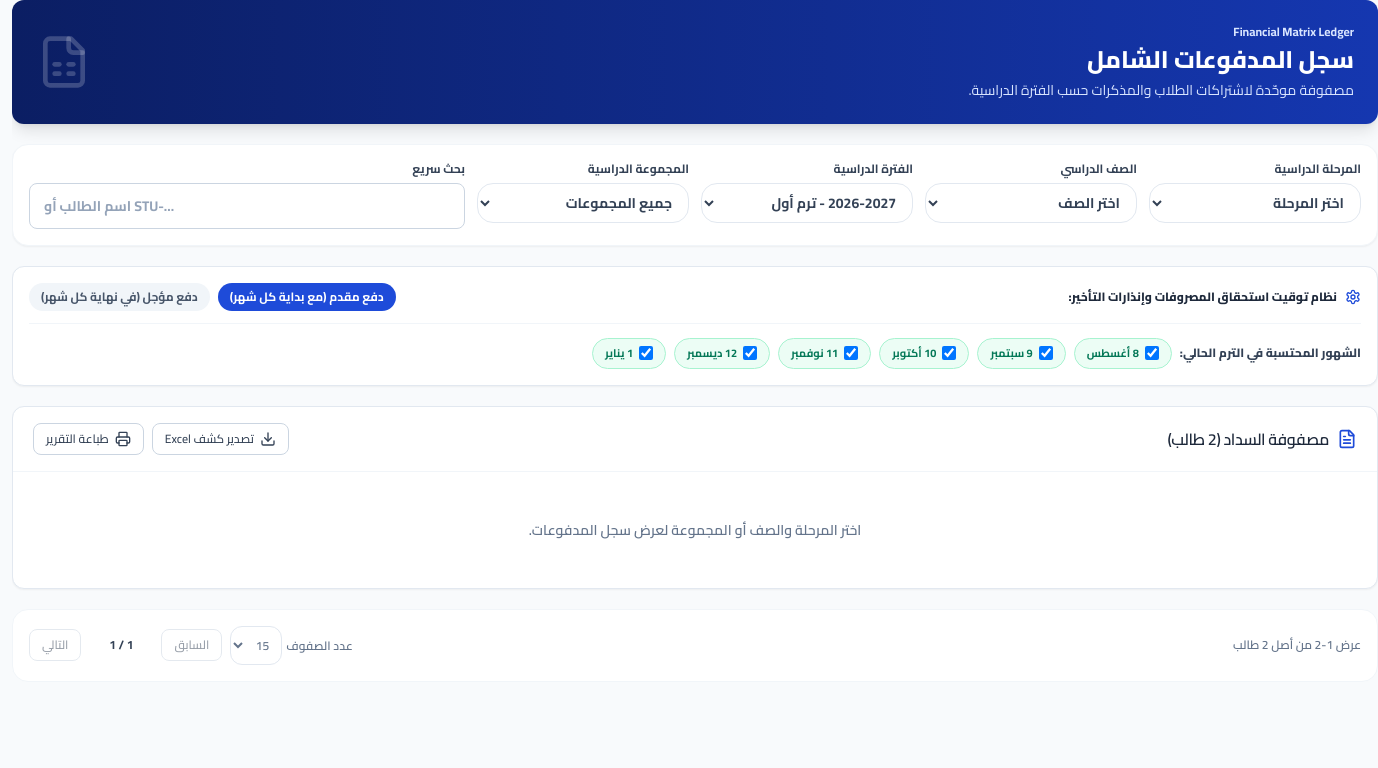
Test: FinancialMatrixLedger › restricts month columns to the selected term and blanks future months
Select "الثانوية" in the dropdown labelled "المرحلة الدراسية". click: (1255, 203)
box: [1149,183,1361,223]
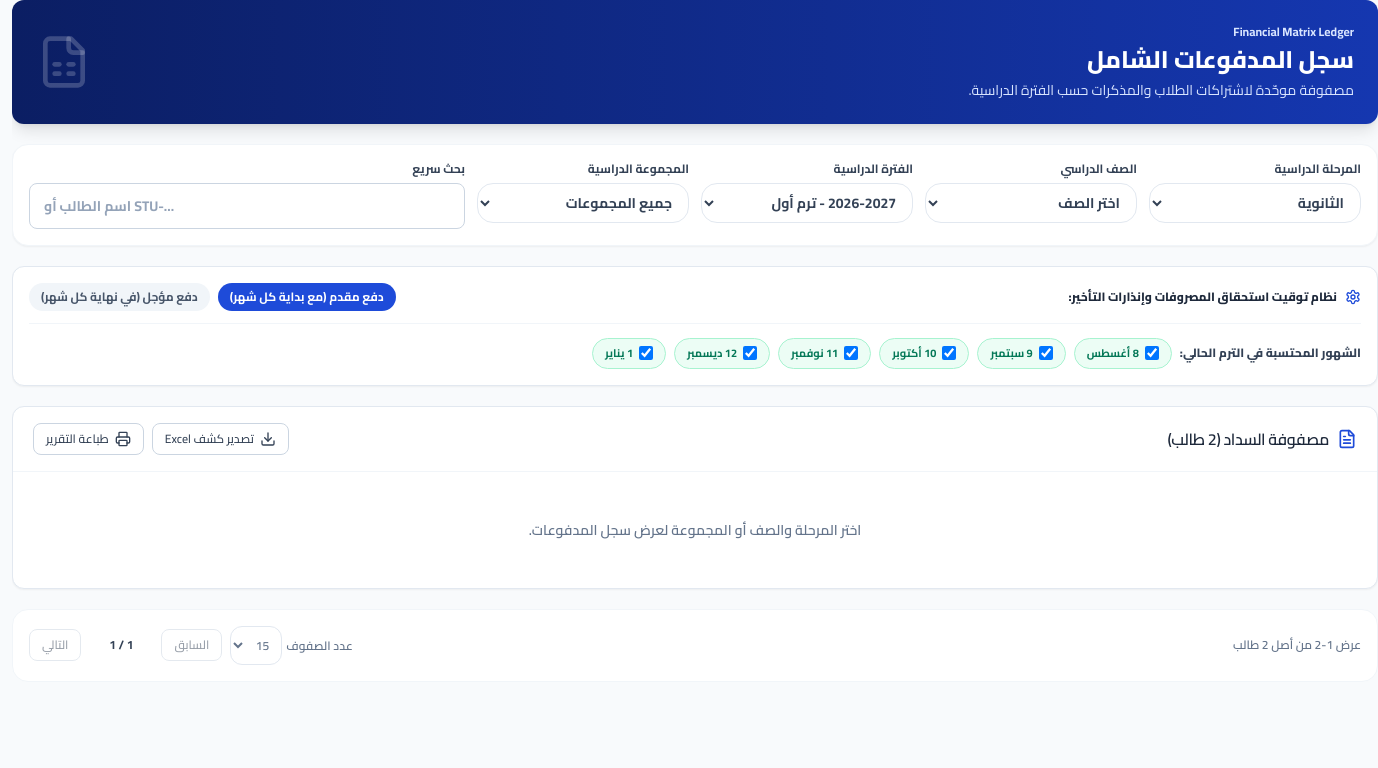
Select "الصف الأول الثانوي" in the dropdown labelled "الصف الدراسي". click: (1031, 203)
box: [925,183,1137,223]
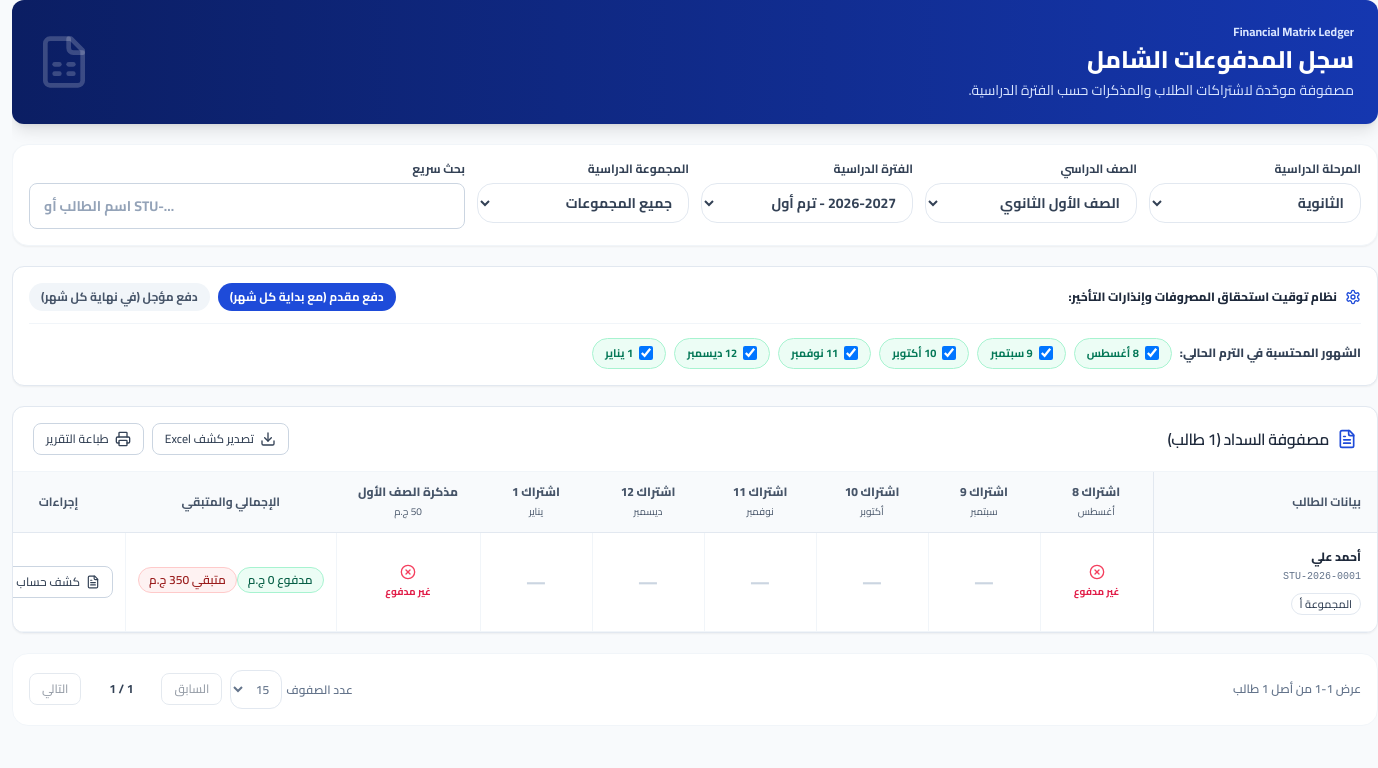
Check: the text "اشتراك 8" is shown, box [1072,480,1120,502]
Check: the text "اشتراك 1" is shown, box [512,480,560,502]
Check: the text named "شهر 9 لم يبدأ بعد" is shown, box [974,564,994,598]
Select "2026-2027 - ترم ثان" in the dropdown labelled "الفترة الدراسية". click: (807, 203)
box: [701,183,913,223]
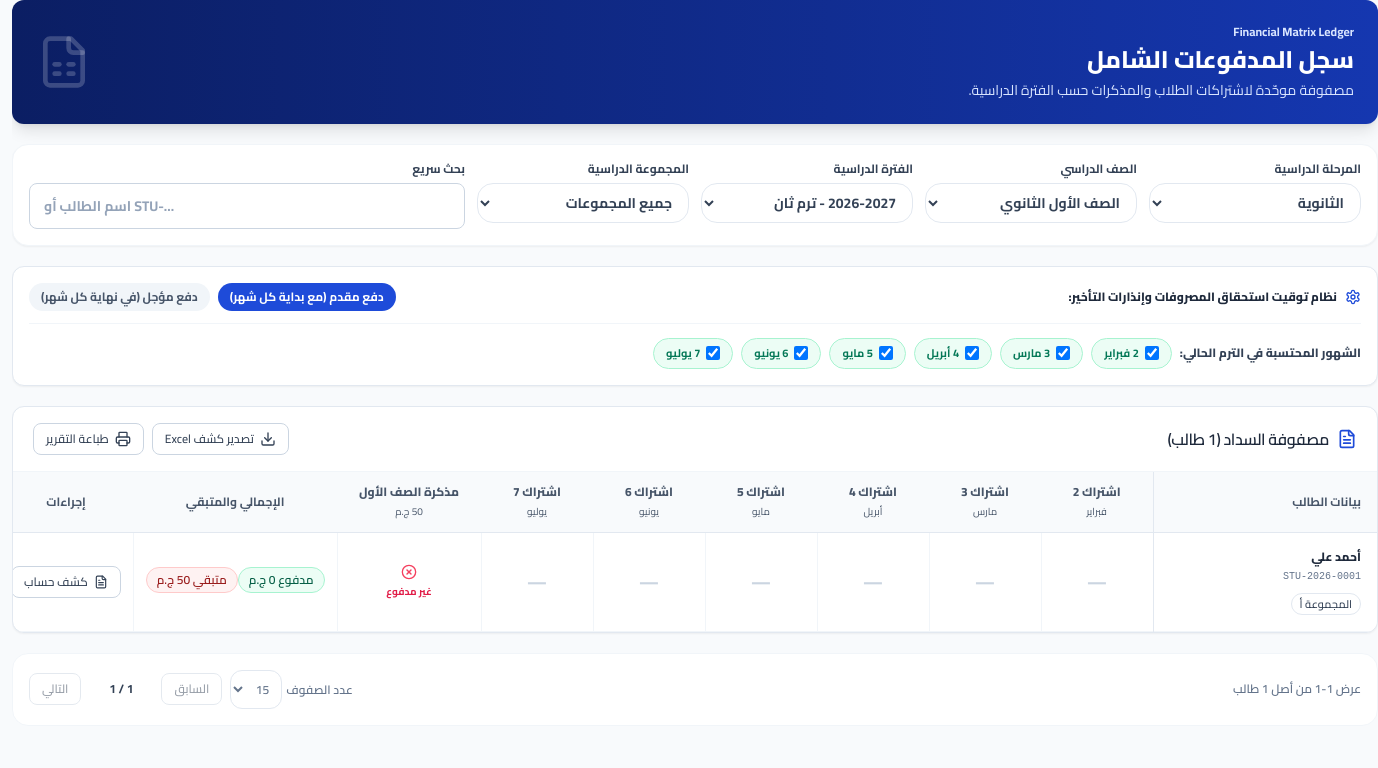
Check: the text "اشتراك 2" is shown, box [1073,480,1121,502]
Check: the text "اشتراك 7" is shown, box [513,480,561,502]
Check: the text "اشتراك 8" is gone
